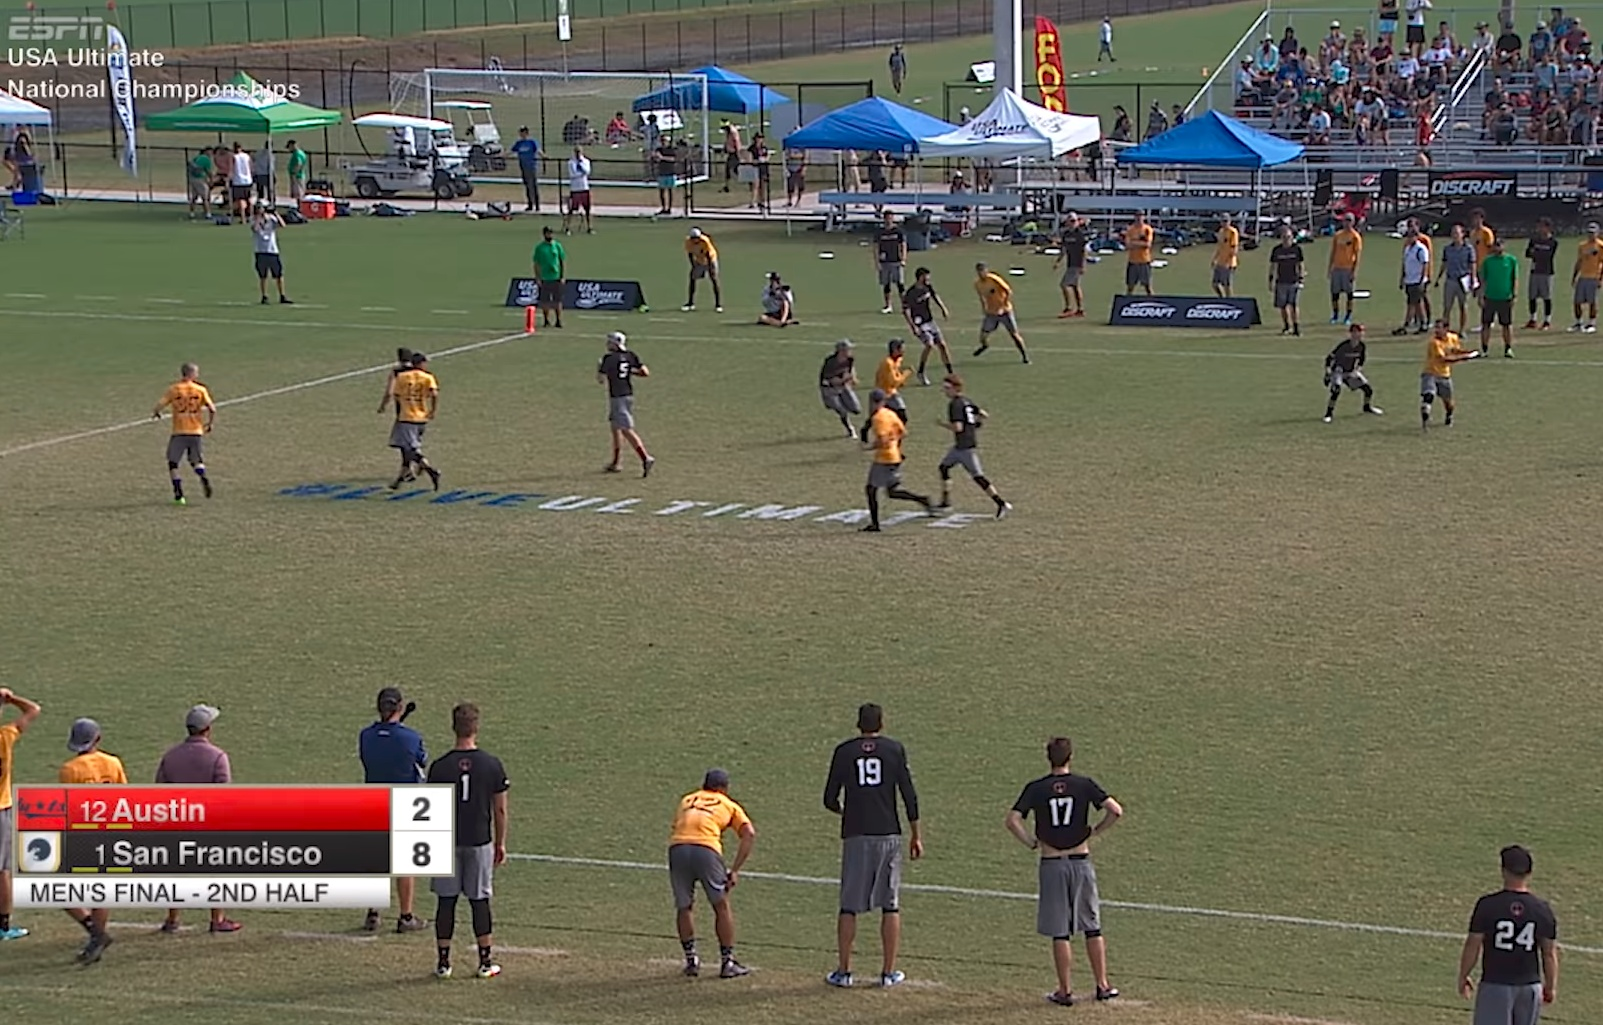frisbee: (1463, 349, 1479, 359), (1352, 290, 1370, 297), (1008, 268, 1025, 273), (1153, 259, 1170, 265), (819, 252, 833, 258), (1150, 263, 1163, 266)
